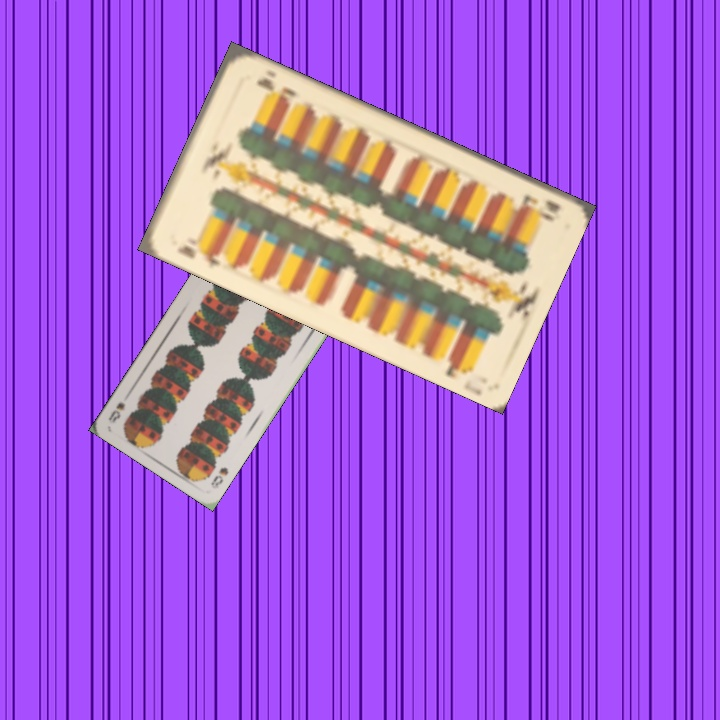E10: (173, 234, 224, 271), (516, 190, 564, 224)
S8: (207, 463, 231, 489)
